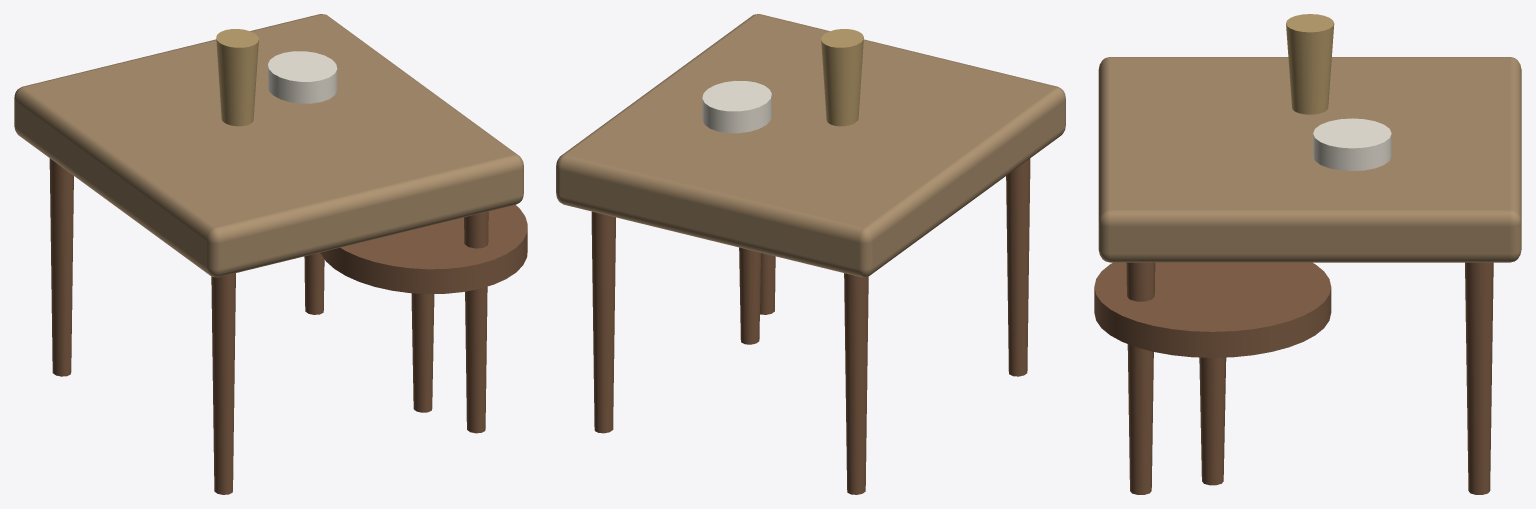
Rendered from table-21-1.glb.
The picture shows the model from 3 angles, left to right: view 1: azimuth 30°, elevation 25°; view 2: azimuth 150°, elevation 25°; view 3: azimuth 270°, elevation 25°; orthographic projection. The views are drawn at different scales.
Visible parts, largest first — view 1: upholstery, part (×3); view 2: upholstery, part (×3); view 3: upholstery, part (×3).
Part boxes in pixels (x1,y1,x2,y2): upholstery: (14, 14, 523, 277); part (×3): (49, 29, 527, 494); upholstery: (556, 14, 1065, 277); part (×3): (591, 29, 1030, 494); upholstery: (1098, 57, 1521, 262); part (×3): (1094, 14, 1493, 494).
Size of the model in its own units: 1 by 1 by 1.
